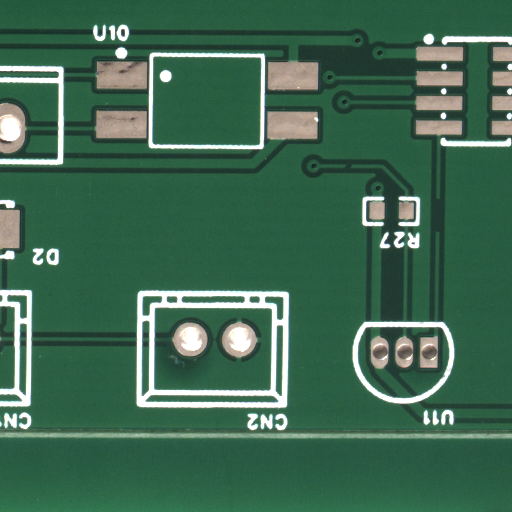Open_circuit: (436, 215, 443, 248), (349, 163, 356, 172)
